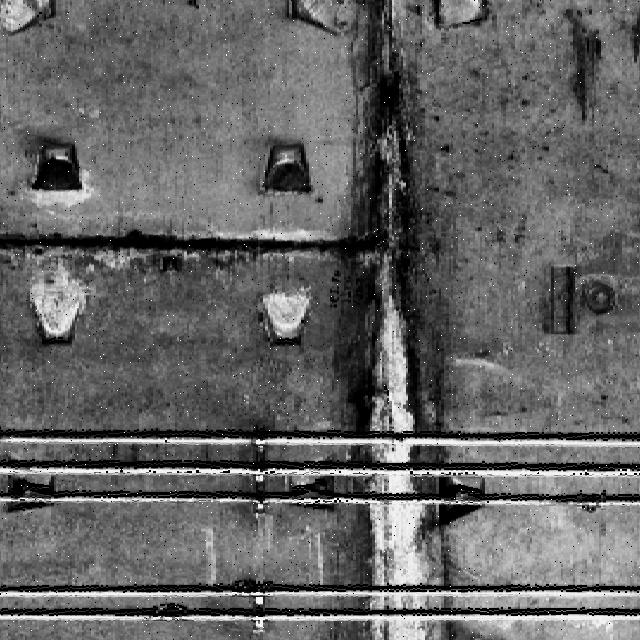leakage: (340, 2, 452, 639)
